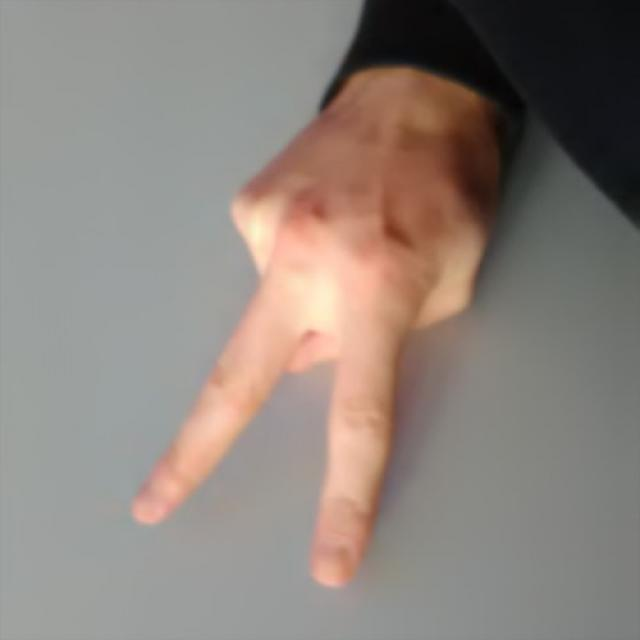scissors: (130, 132, 489, 586)
